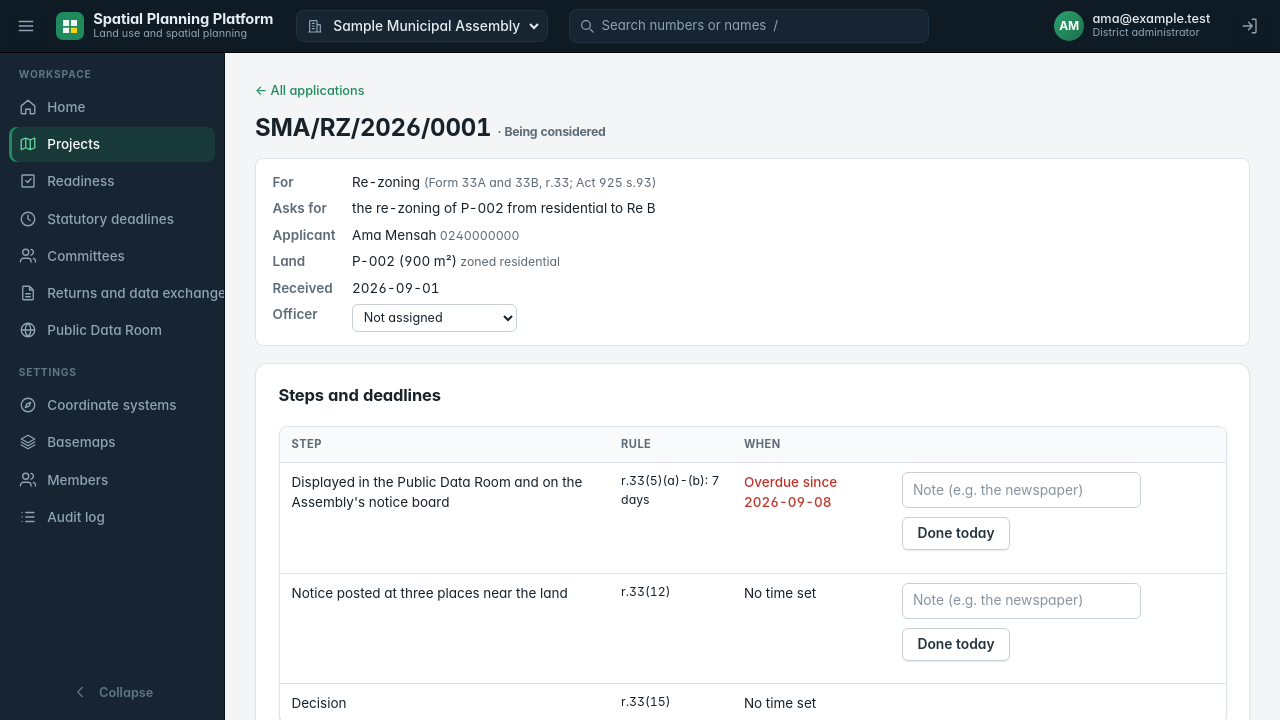
Test: re-zoning, change of use and subdivision › shows each step with its rule and date, the abutting owners, and records a step
Expected: the text "Notice posted at three places near the land" shows "No time set", [744, 585, 816, 601]
Step 1. Type "Notice board" into the field named "Note for: Displayed" → (1021, 490), box [902, 472, 1141, 508]
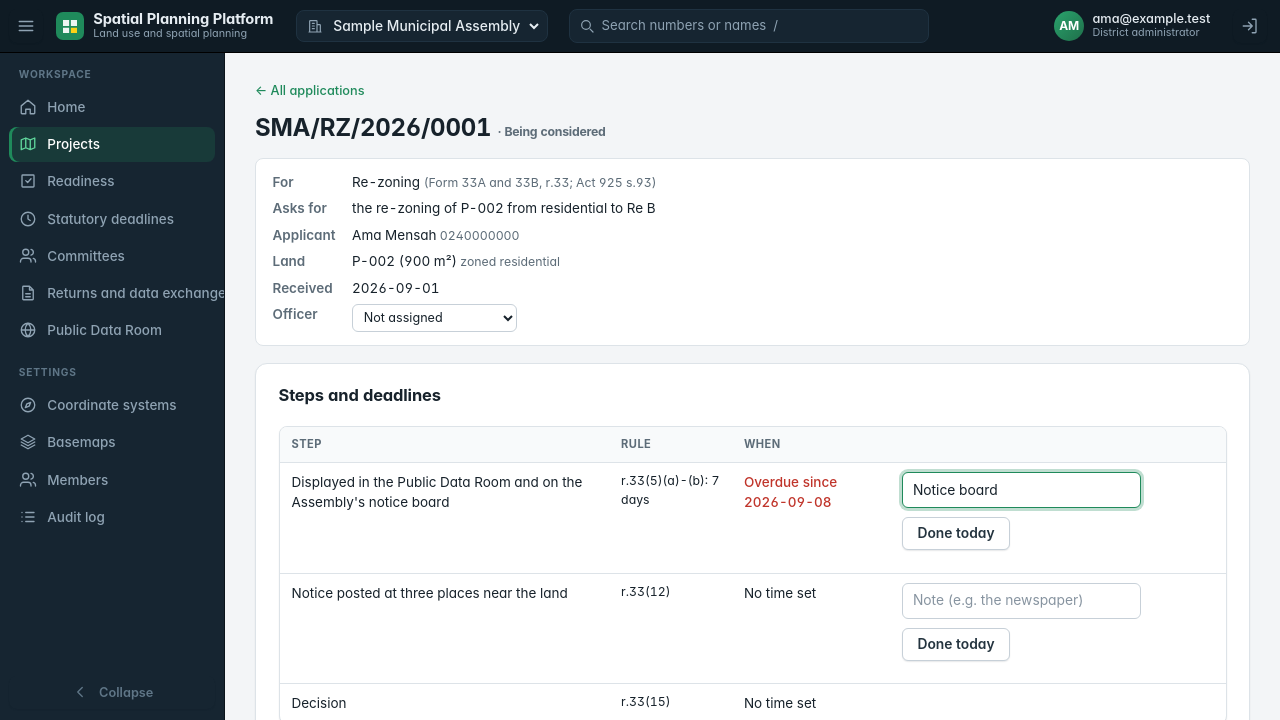
Step 2. Click the button with aria-label "Done today: Displayed" → click(956, 534), box [902, 517, 1010, 550]
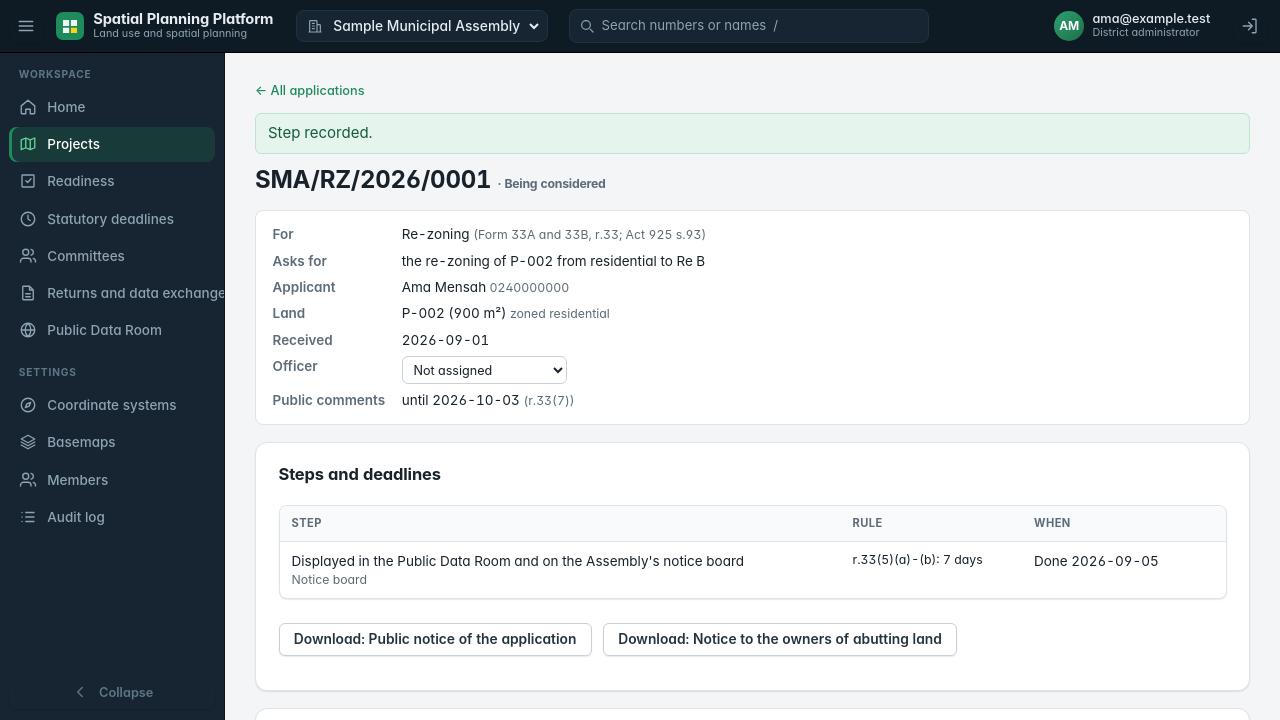
Result: the message reads "Step recorded." at [268, 123, 373, 142]
Result: the element named "Application" shows "until 2026-10-03 (r.33(7))" at [255, 210, 1250, 425]
Result: the text "Displayed in the Public Data Room" shows "Done 2026-09-05" at [1034, 553, 1159, 569]
